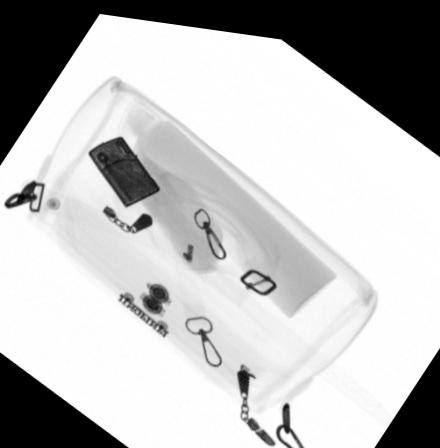Lighter: (86, 130, 161, 204)
